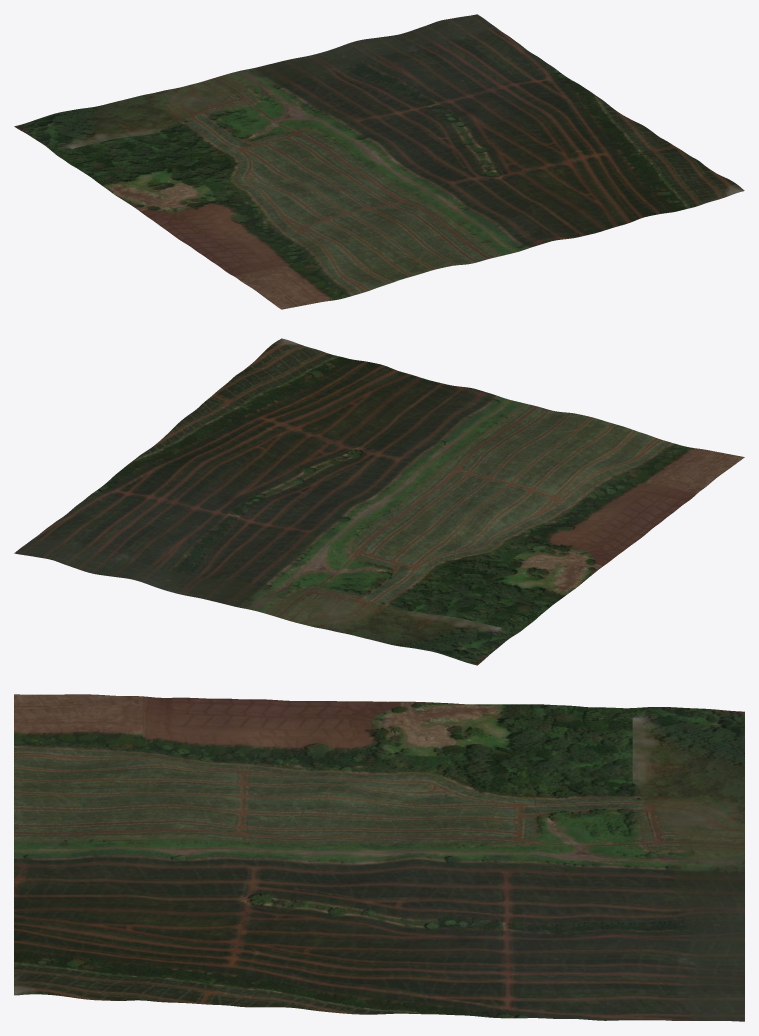
Rendered from twin.glb.
The picture shows the model from 3 angles, top to bottom: view 1: azimuth 30°, elevation 25°; view 2: azimuth 150°, elevation 25°; view 3: azimuth 270°, elevation 25°; orthographic projection. The views are drawn at different scales.
Parts seen in each view (by area): view 1: terrain; view 2: terrain; view 3: terrain.
Part boxes in pixels (<box>): terrain: <box>14,14,744,309</box>; terrain: <box>14,338,744,665</box>; terrain: <box>14,694,744,1021</box>.
Bounding box in the file's own units: 800 × 35.13 × 800.
1 material, 1 textured.
